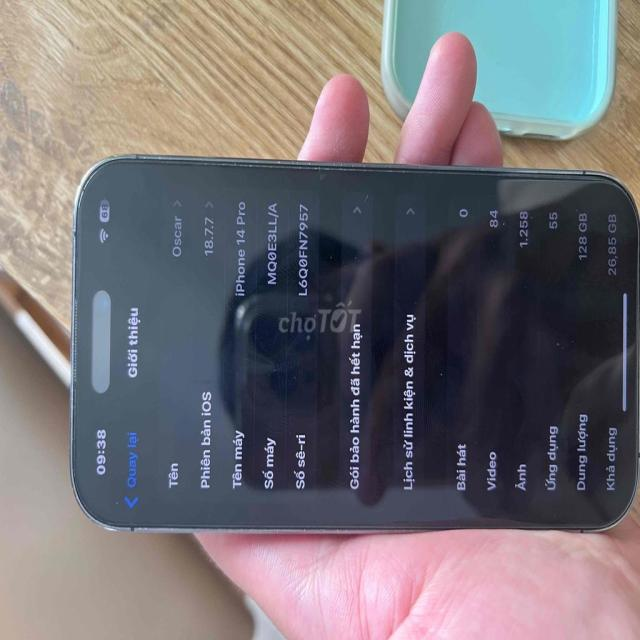scratch: (179, 149, 449, 181), (117, 514, 170, 532)
